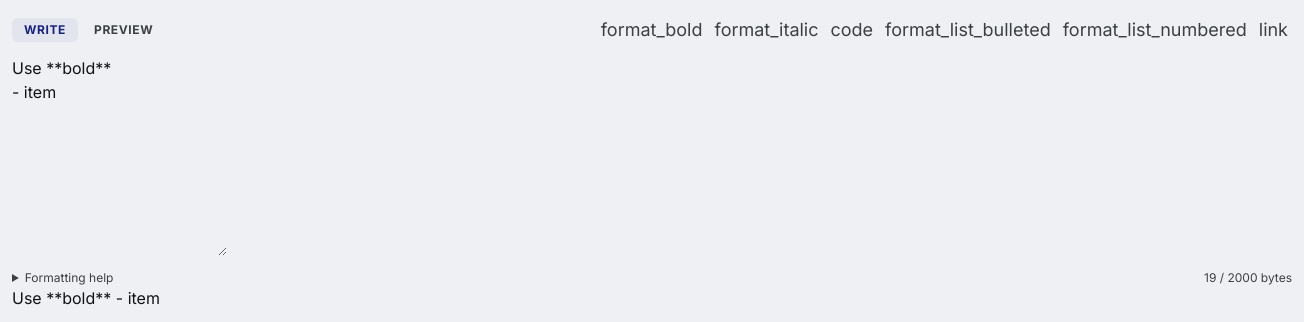
Scenario: StatementEditor › previews the formatted statement and disables the toolbar there
This screenshot has width=1304, height=322.
Step 1. Click the tab "Preview" → [124, 30], box 82,18 -> 165,42
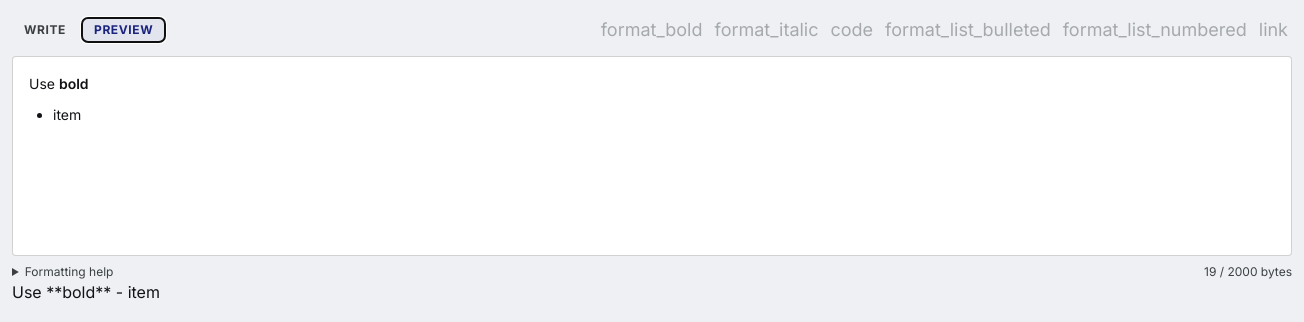
Check: the text "bold" is shown, box 59,75 -> 89,92
Check: the list item "item" is shown, box 53,106 -> 81,123
Check: the button "format_bold" is disabled, box 597,12 -> 706,48
Step 2. Click the tab "Write" → [45, 30], box 12,18 -> 78,42
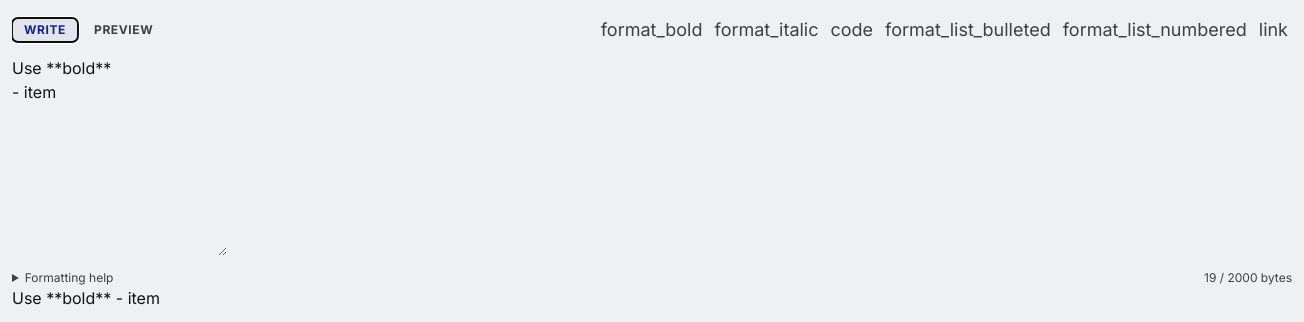
Check: the text box named "Statement" is shown, box 12,56 -> 227,256
